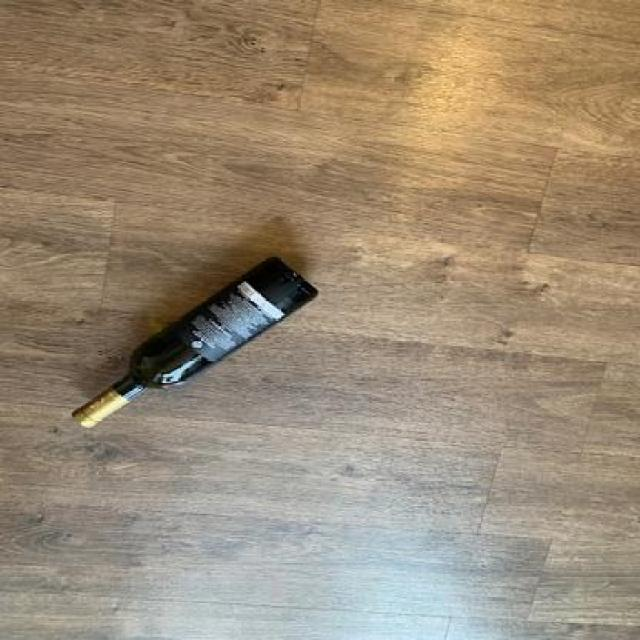trash: (68, 252, 320, 434)
